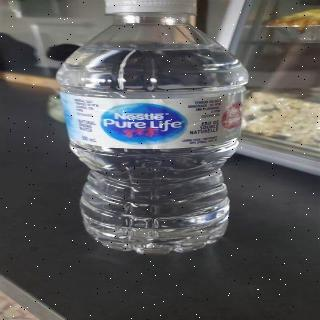Plastic-bottle: (47, 1, 252, 255)
